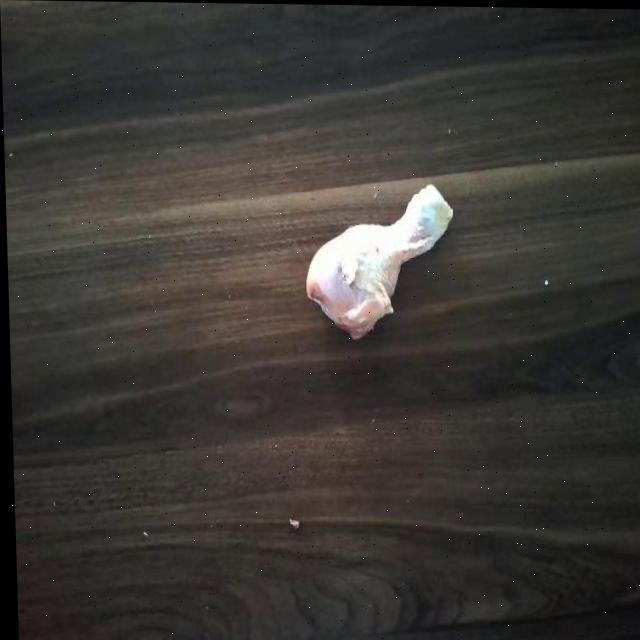leg: (294, 178, 454, 342)
